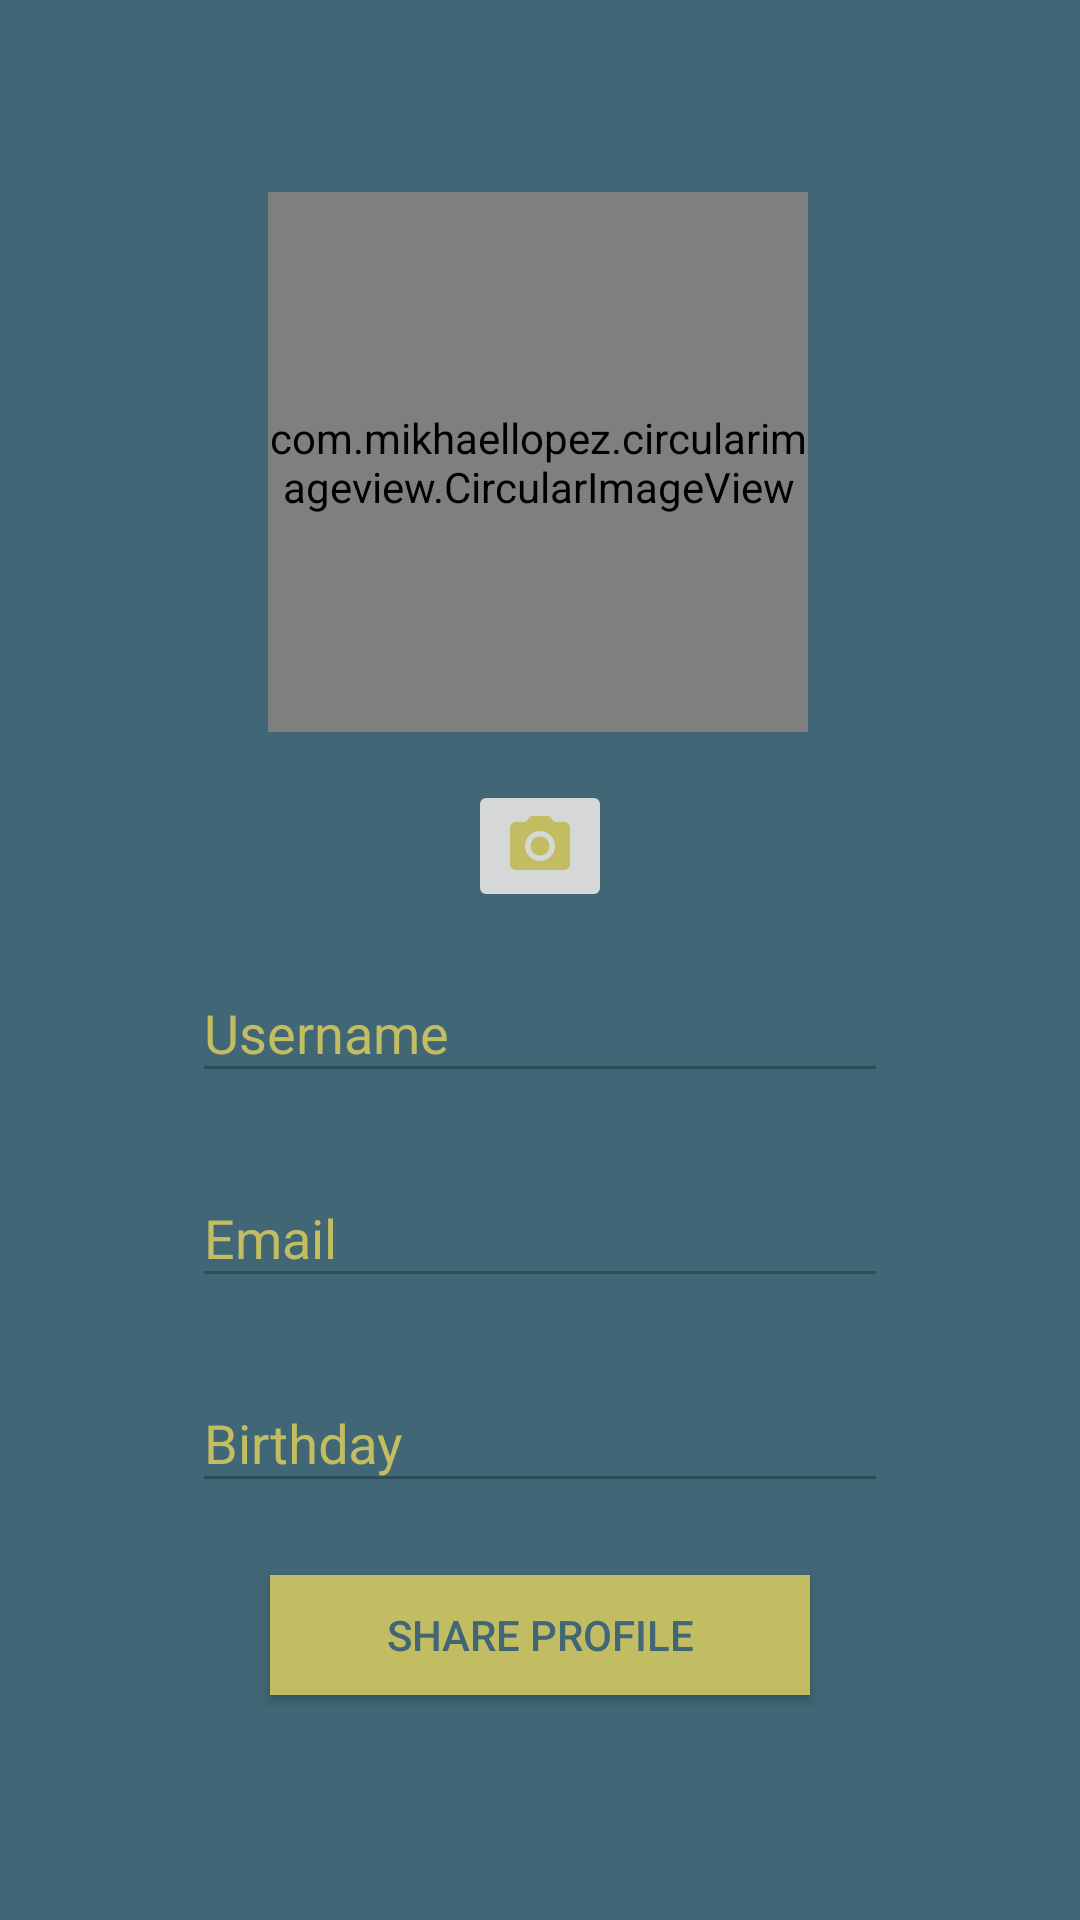

Named icons in this screenshot (1080px x 1920px) and their bounding boxes, (x1, y1, x2, y2):
photo: (480, 798, 600, 894)
